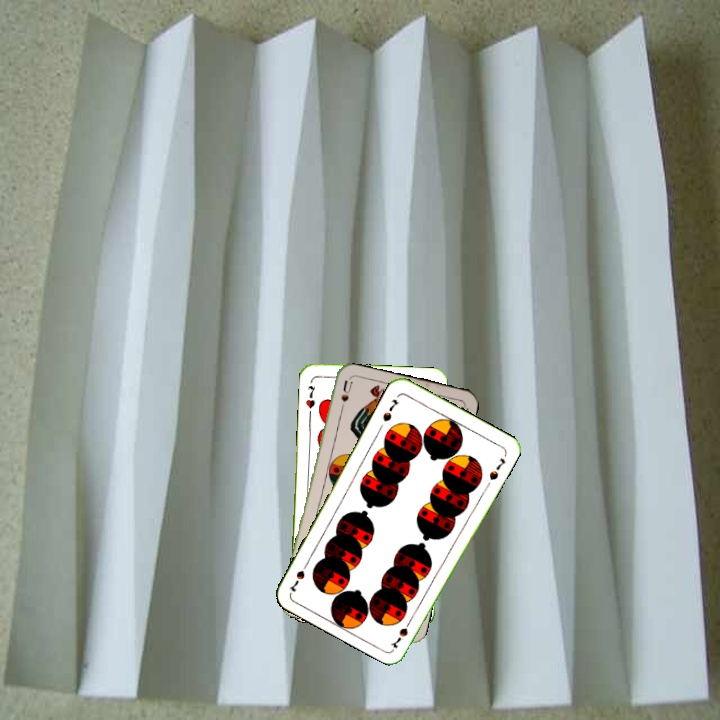H7: (302, 382, 318, 411)
S7: (388, 613, 415, 651), (378, 395, 401, 424)
SU: (335, 377, 354, 418)
